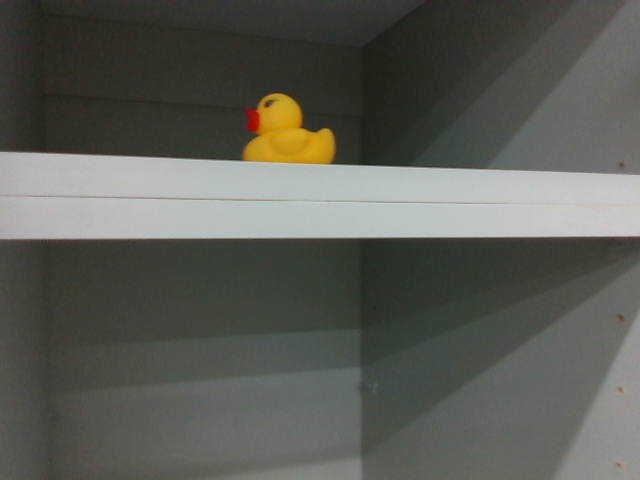duck: (234, 82, 339, 168)
